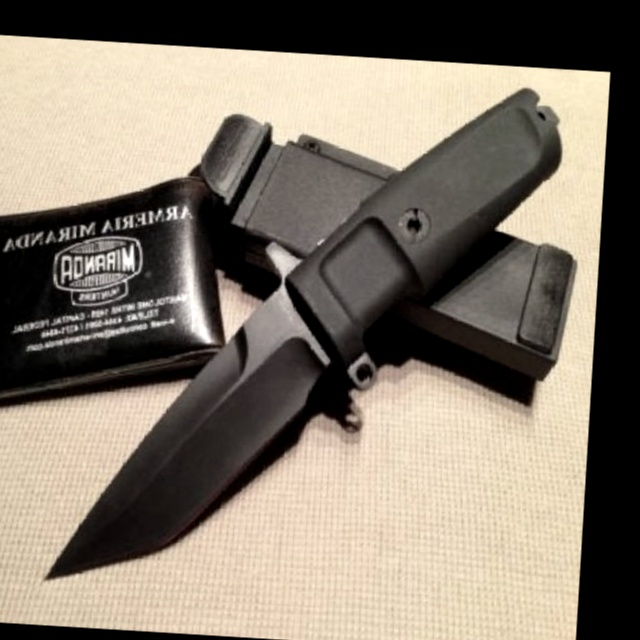Sharp-Object: (45, 61, 564, 610)
